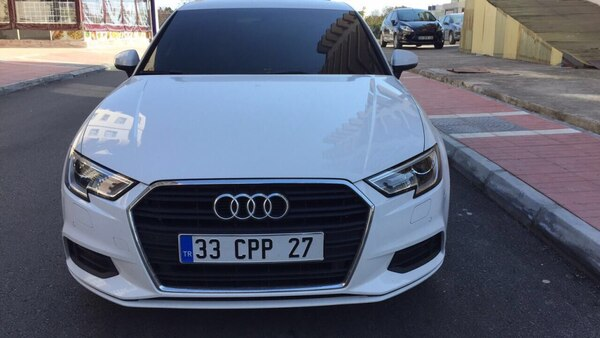audi: (206, 188, 297, 223)
